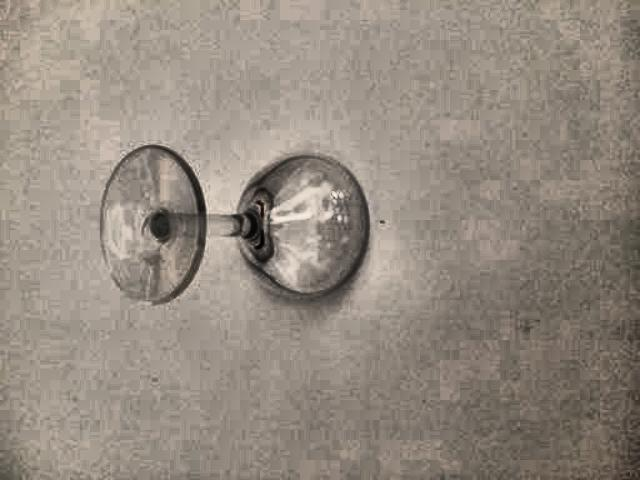Almennt: (73, 128, 401, 328)
